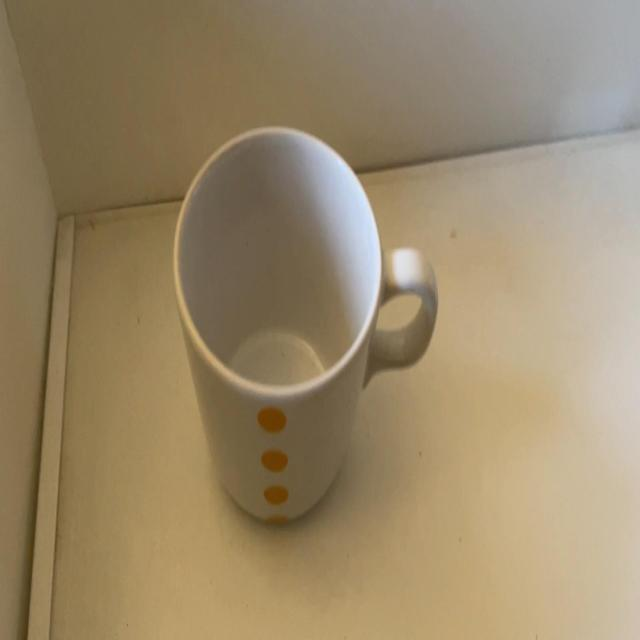cup: (172, 123, 437, 524)
